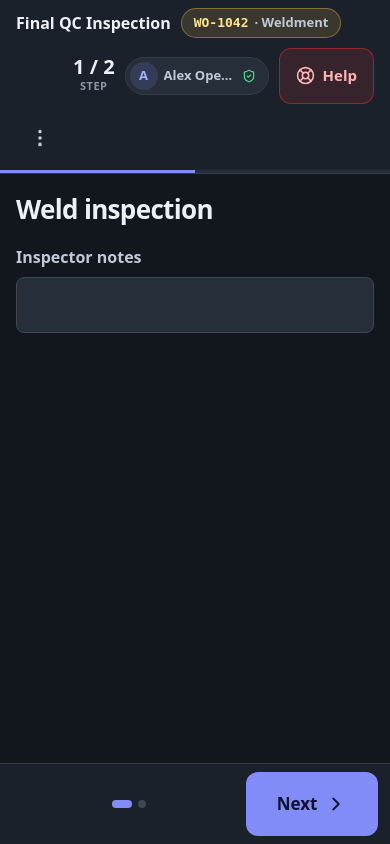
Test case: a job routed to this app through one of its operations › names the work order on the finish summary, not "No work order"
The image size is (390, 844).
Expected: the heading "Weld inspection" is shown, [16,190,213,228]
Click the button "Next".
click(312, 804)  # box [246,772,378,836]
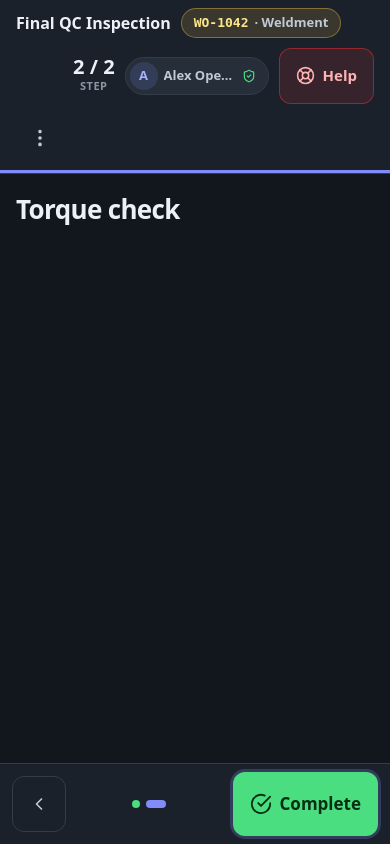
Click the button "Complete".
click(305, 804)  # box [232,772,378,836]
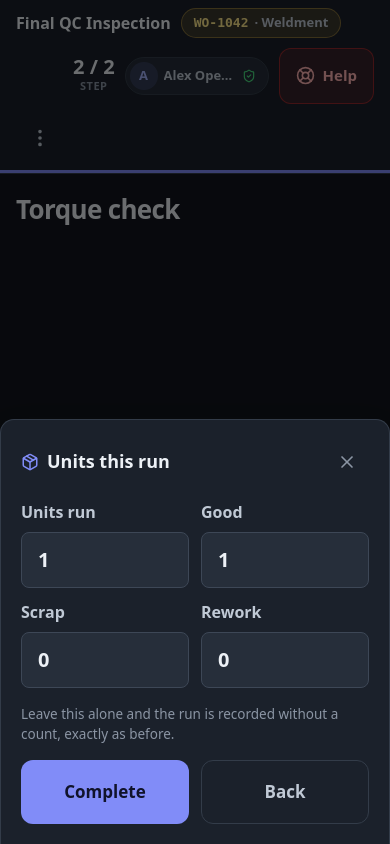
Click the button "Complete".
click(105, 792)  # box [21,760,189,824]
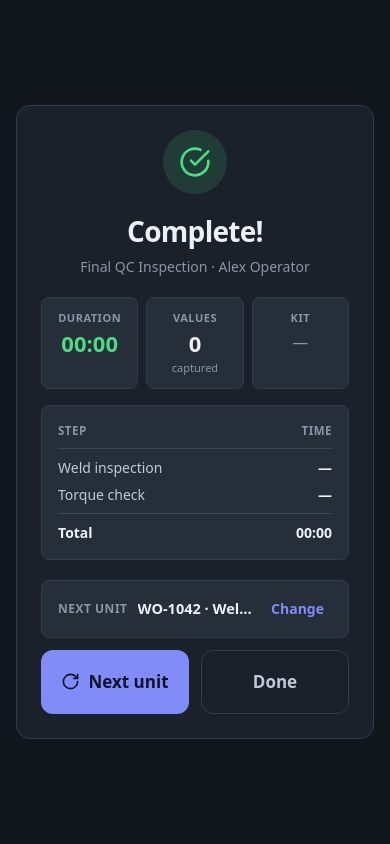
Expected: the text "WO-1042 · Weldment" is shown, [138,598,253,620]
Expected: the heading "Complete!" is shown, [127,212,263,250]
Expected: the number field "no work order or part number" is gone
